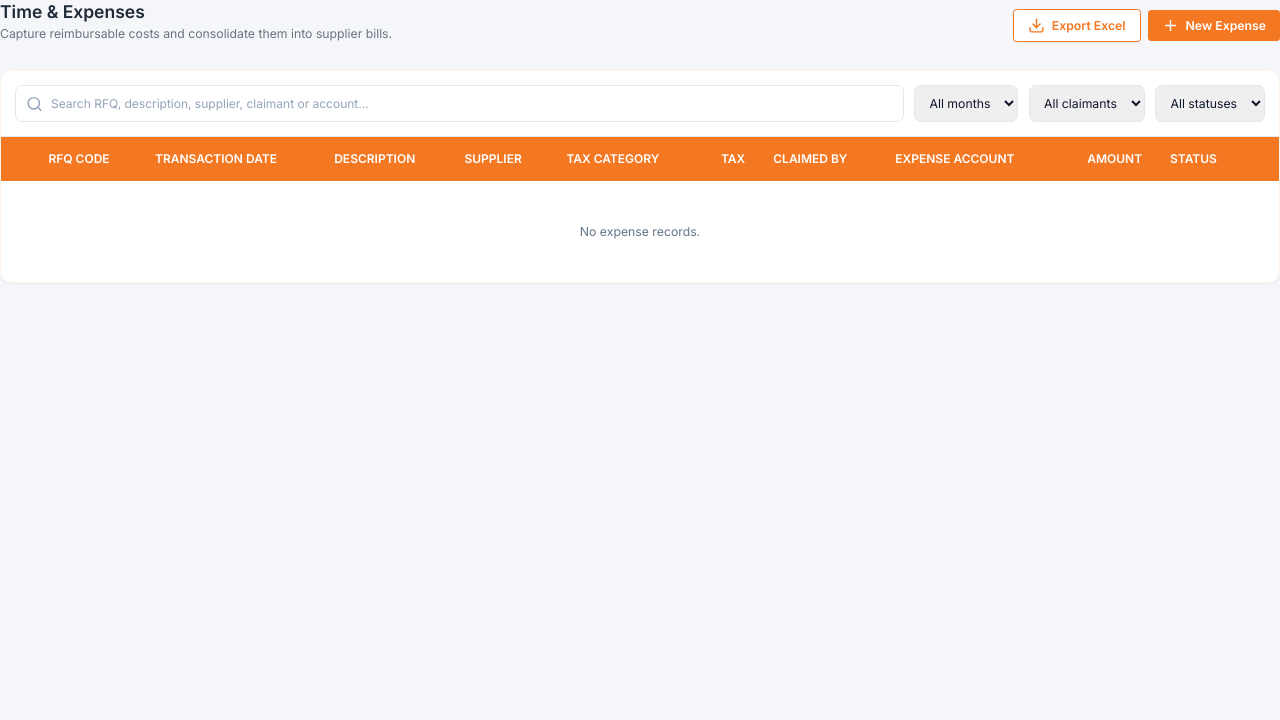
Test case: TimeExpensesView expense selection › populates Expense Account combobox with all chart of accounts from 1000-level to 9000-level sorted by code
# Open create form
Click the button "New Expense": [1214, 25] box [1148,10,1279,41]
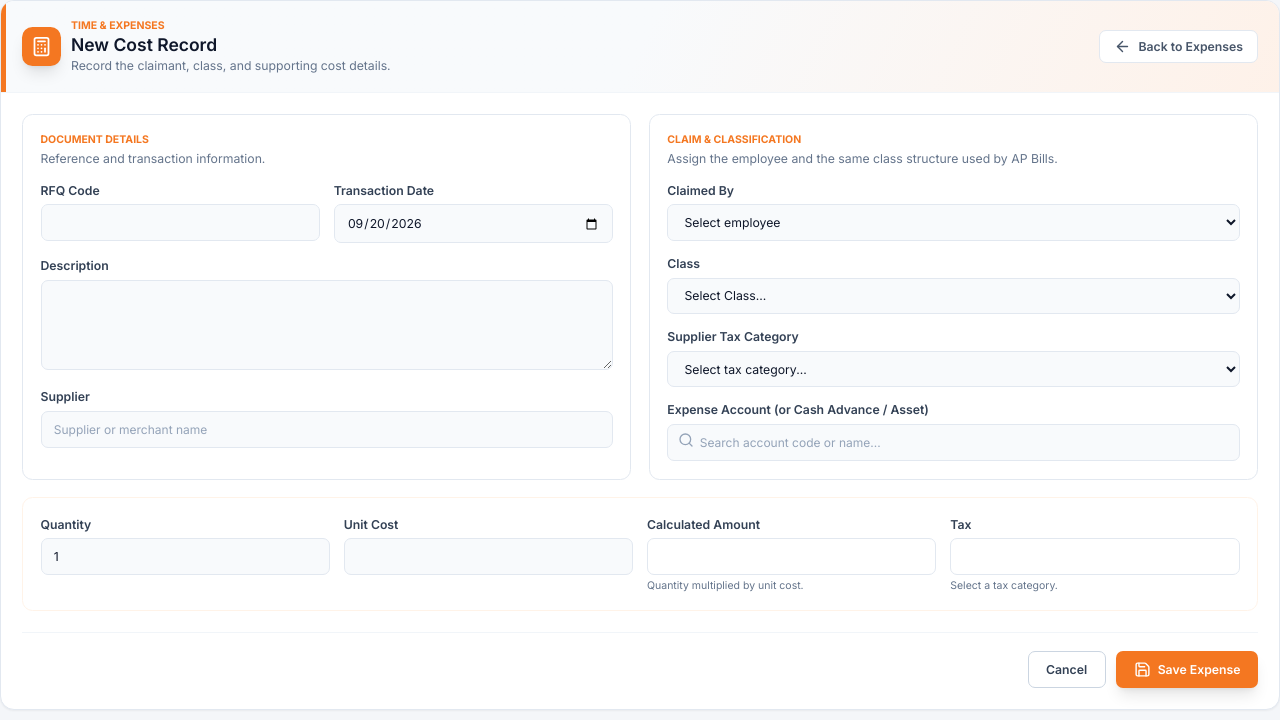
Now the heading "New Cost Record" is shown, box [71,34,217,54]
# Click and focus on the expense account combobox
Focus the dropdown labelled "Expense Account (or Cash Advance / Asset)": [953, 442] box [667,424,1240,461]
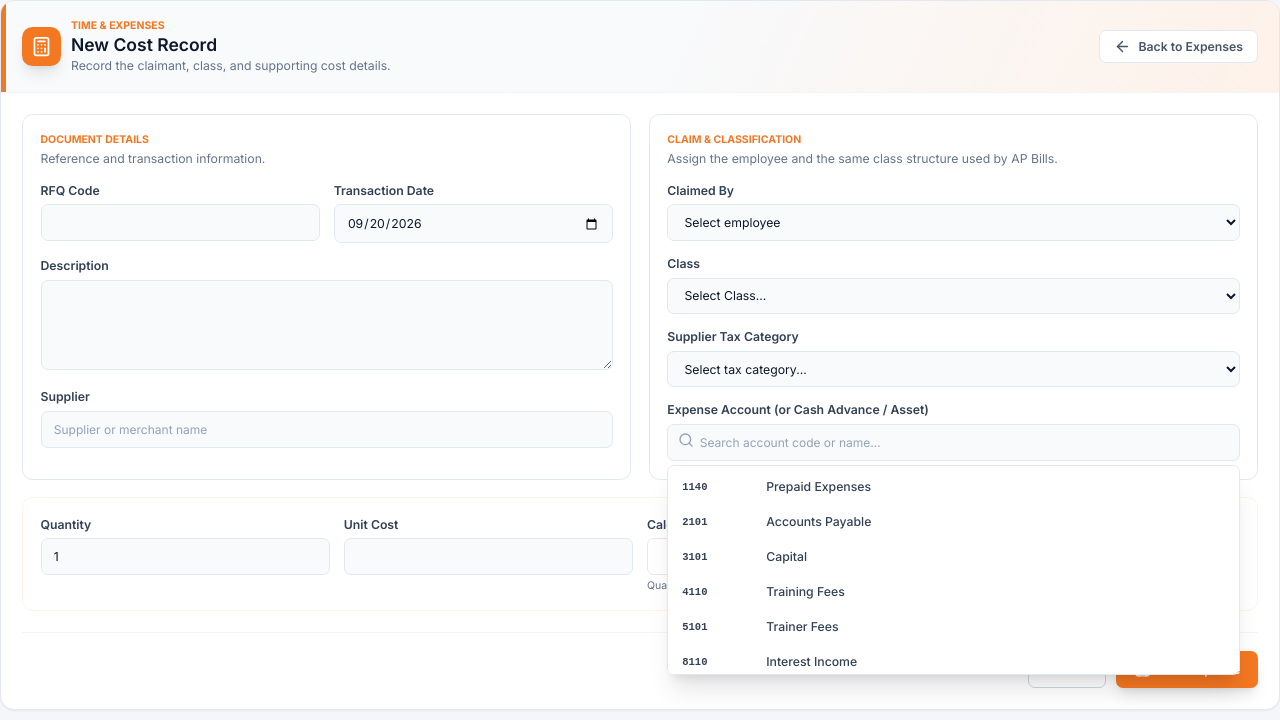
Now the option "1140 Prepaid Expenses" is shown
Now the option "2101 Accounts Payable" is shown, box [672,504,1235,539]
Now the option "3101 Capital" is shown, box [672,539,1235,574]
# Select an account from the list
Click the option "1140 Prepaid Expenses": [819, 486] box [672,469,1235,504]
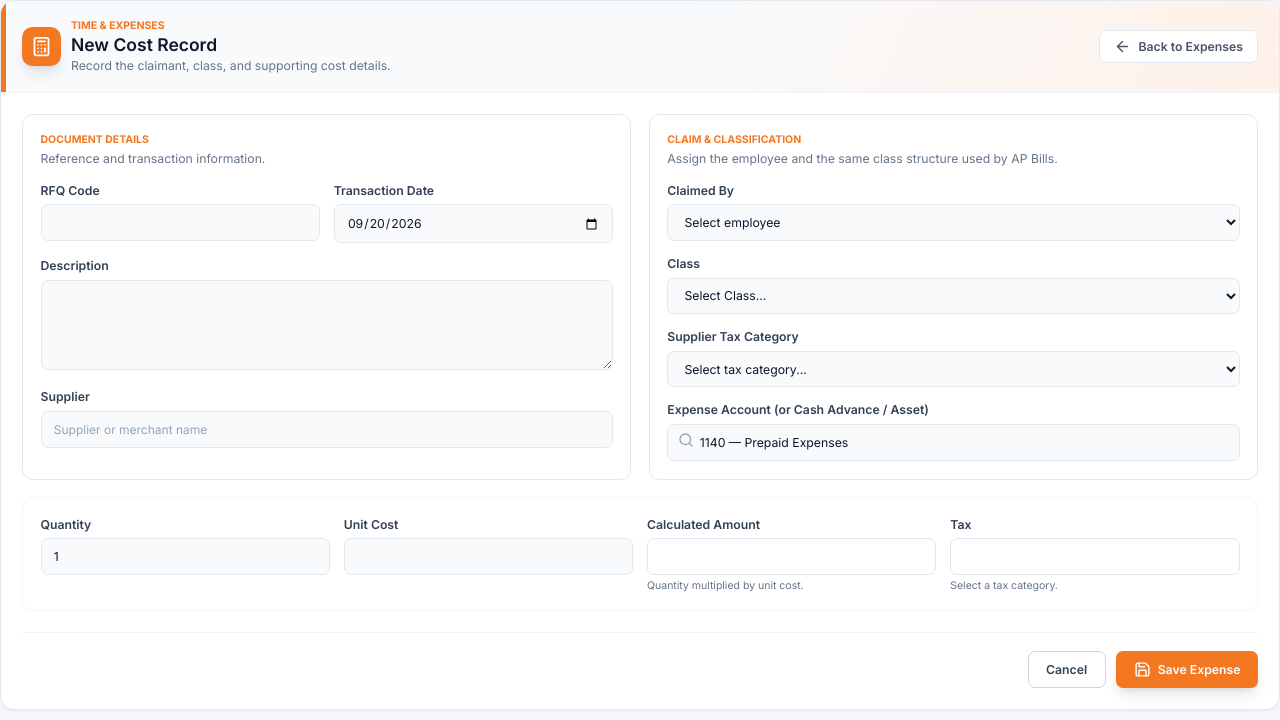
Now the dropdown labelled "Expense Account (or Cash Advance / Asset)" holds "1140 — Prepaid Expenses", box [667,424,1240,461]
